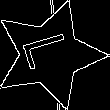L_E: (20, 32, 79, 77)
